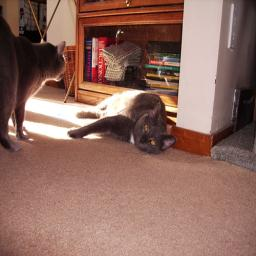catnose: (139, 134, 146, 146)
